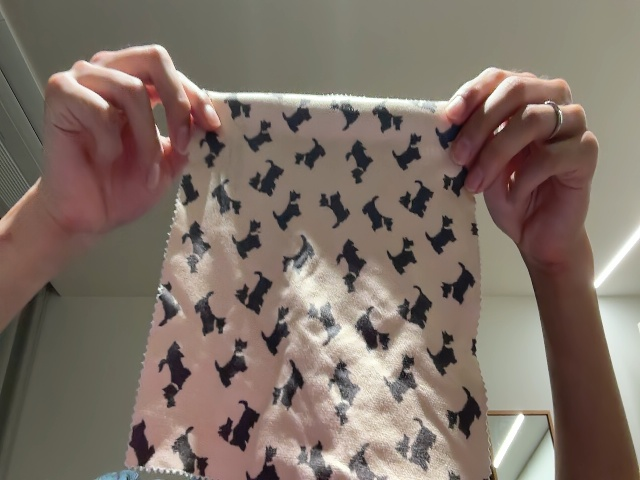towel: (129, 87, 497, 480)
